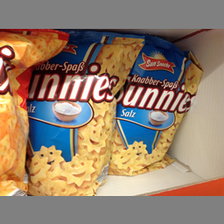chips: (32, 31, 134, 196), (118, 34, 203, 178)
